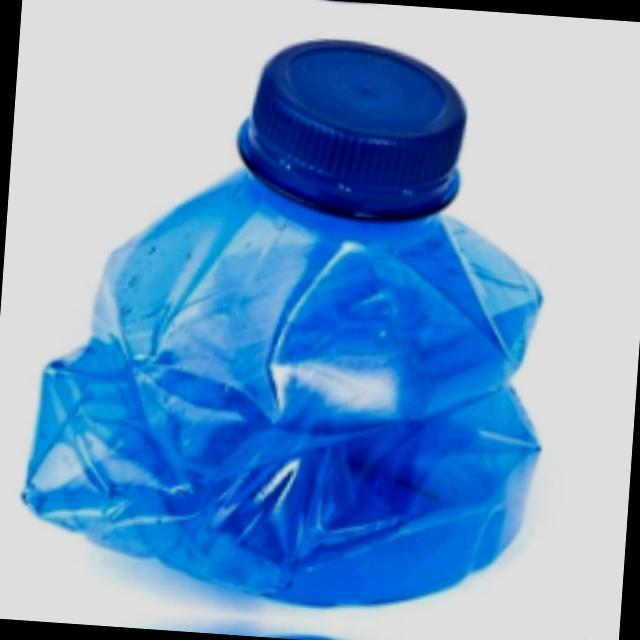Plastic: (0, 13, 583, 619), (0, 615, 542, 640), (29, 0, 587, 21)
